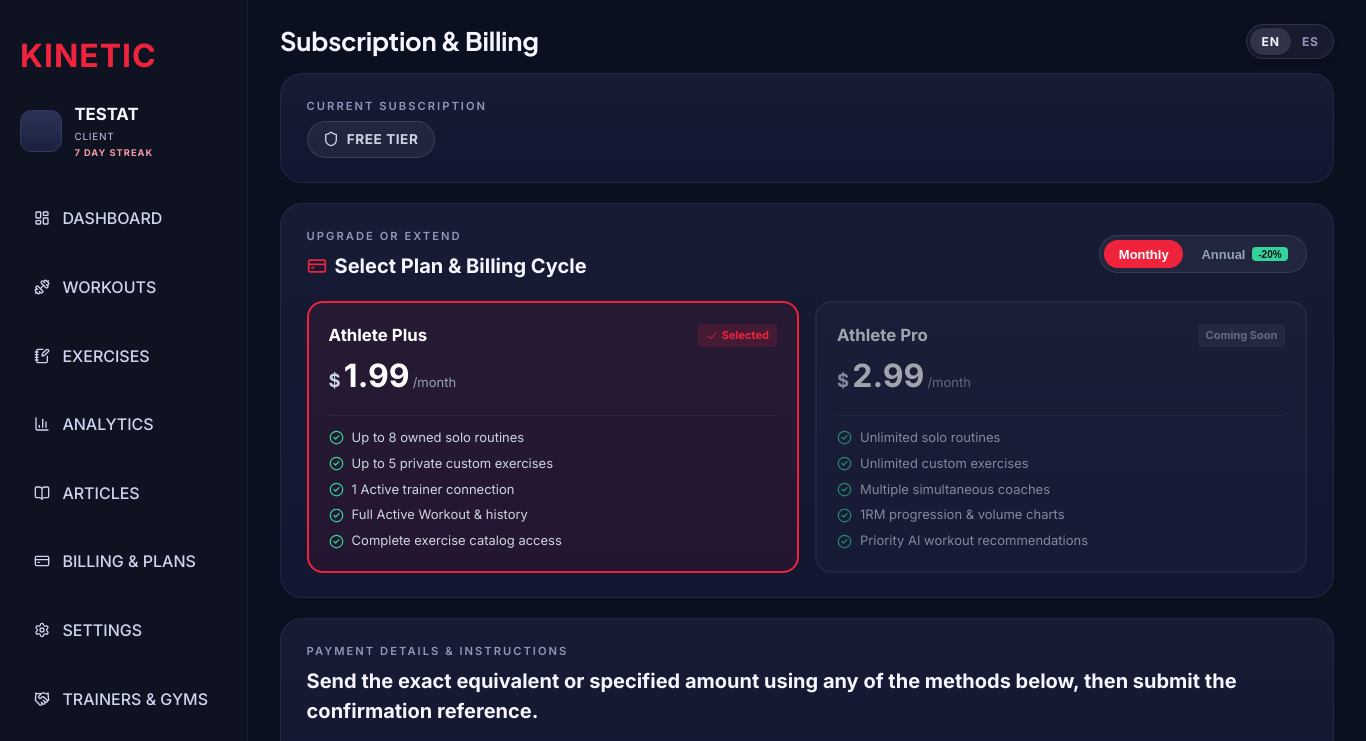
Test: BillingPage › switches between monthly and annual cadence
The width and height of the screenshot is (1366, 741).
Click the button "Annual -20%". click: coordinates (1245, 254)
box: [1187,240,1302,268]
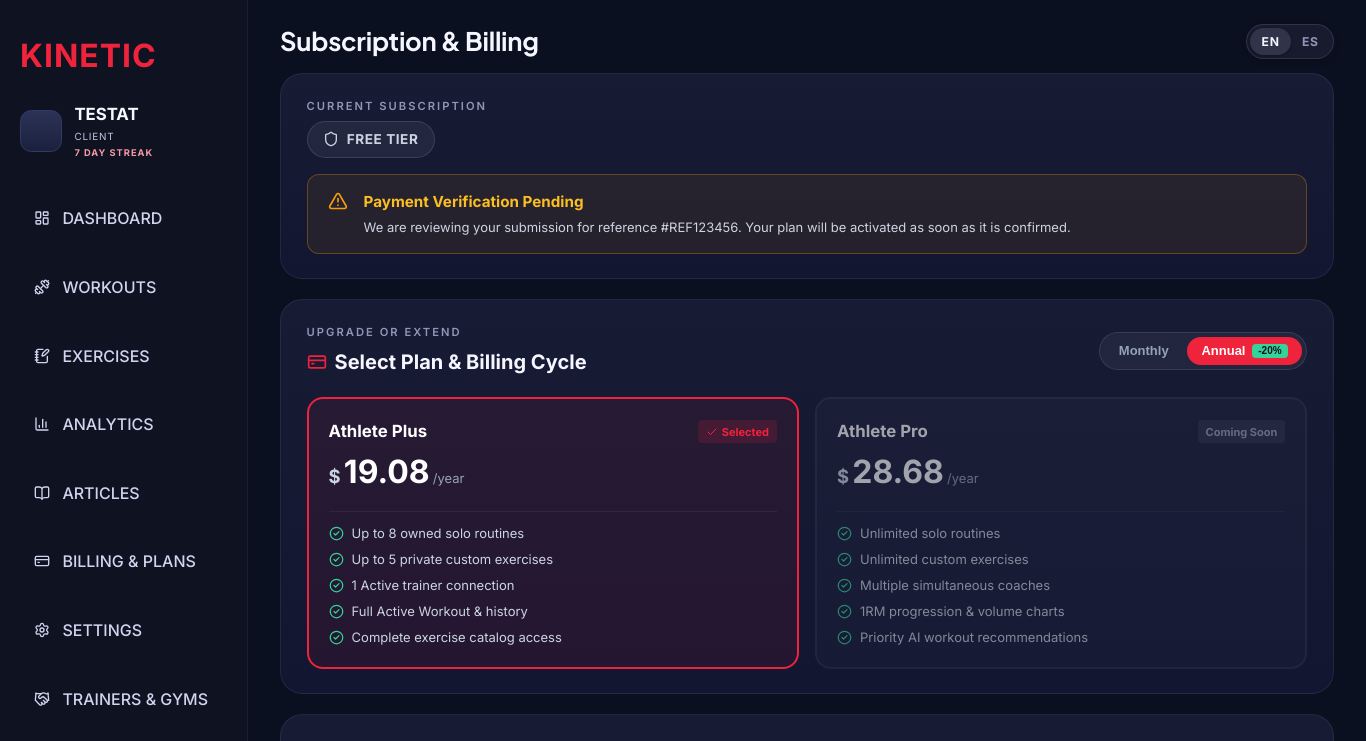
Result: the text "28.68" is shown at [852,456,944,488]
